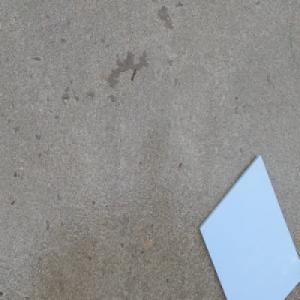PaintChip: (198, 152, 300, 300)
